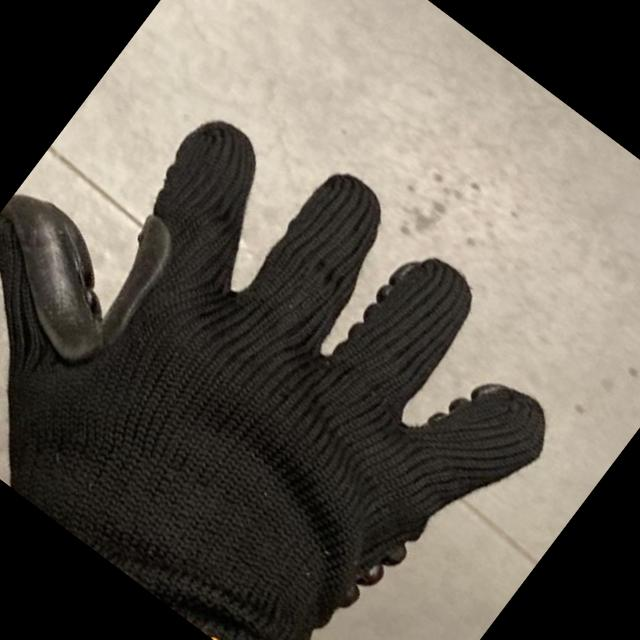forklift: (0, 21, 612, 640)
